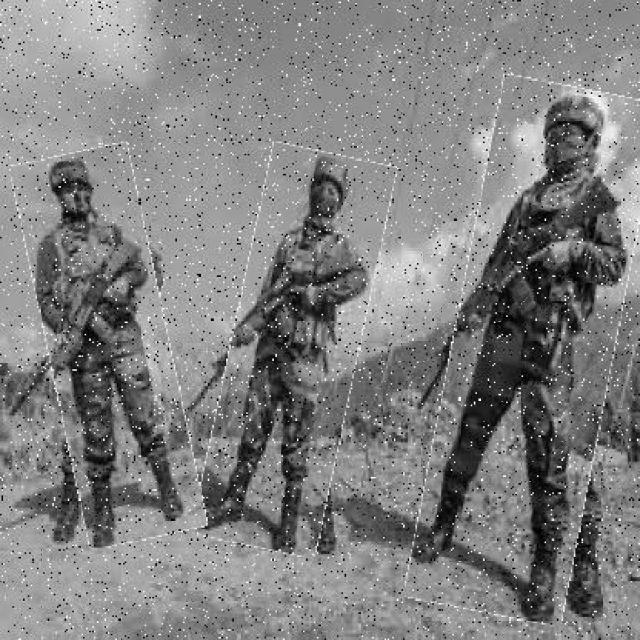Person: (431, 81, 640, 623), (212, 148, 378, 557), (30, 147, 189, 547)
